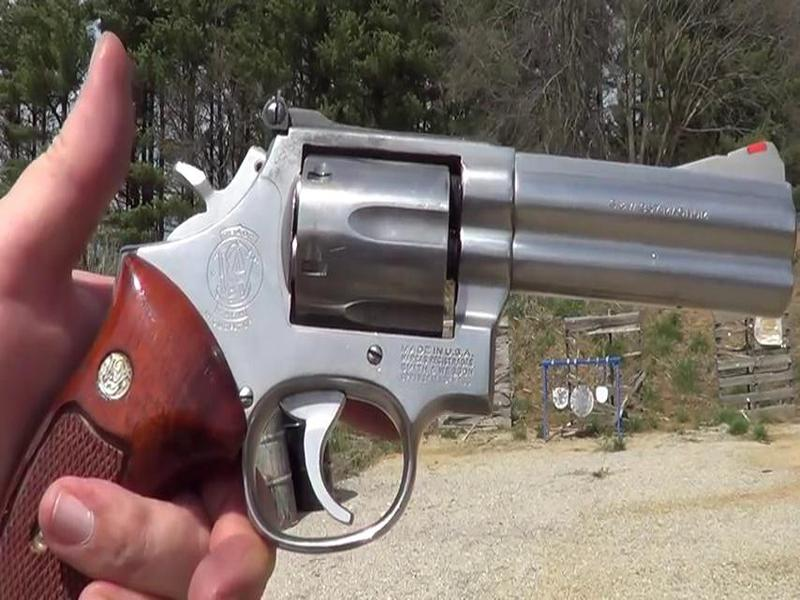Revolver: (12, 94, 800, 553)
